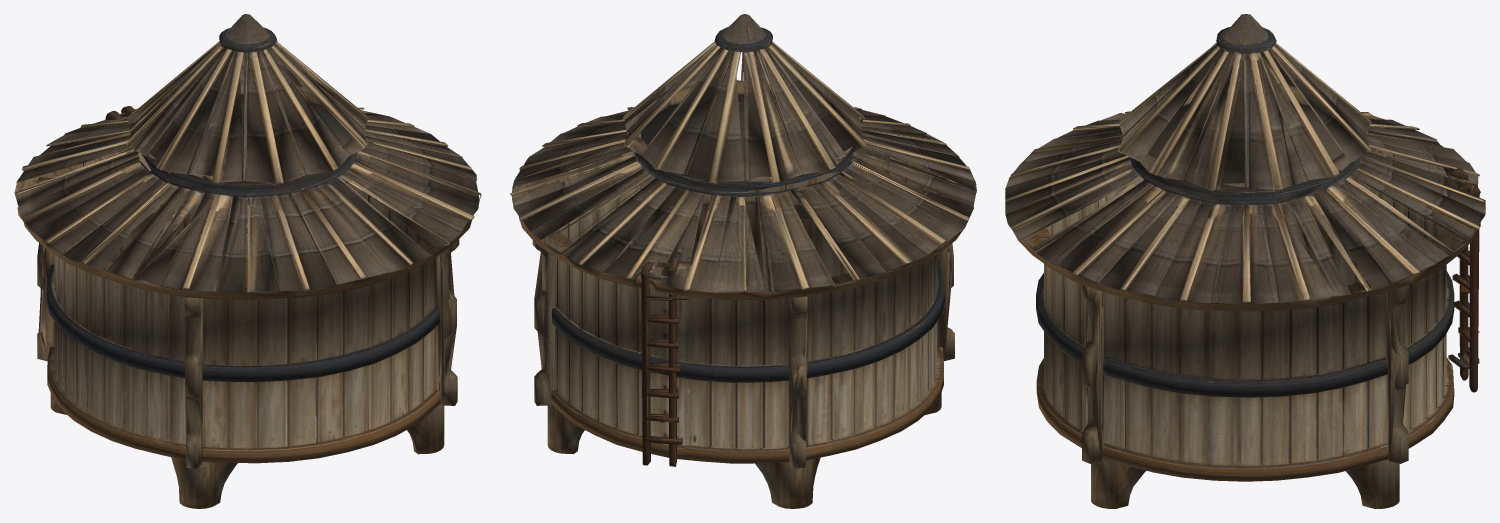
The model's file is office-water-tower.glb.
3 renders of one model, left to right at view 1: azimuth 30°, elevation 25°; view 2: azimuth 150°, elevation 25°; view 3: azimuth 270°, elevation 25°, orthographic. The views are drawn at different scales.
Parts seen in each view (by area): view 1: water-tower; view 2: water-tower; view 3: water-tower.
Part boxes in pixels (x1,y1,x2,y2): water-tower: (14, 14, 481, 508); water-tower: (510, 14, 976, 508); water-tower: (1005, 14, 1485, 508).
Size of the model in its own units: 4.59 by 4.5 by 4.58.
1 material, 1 textured.
